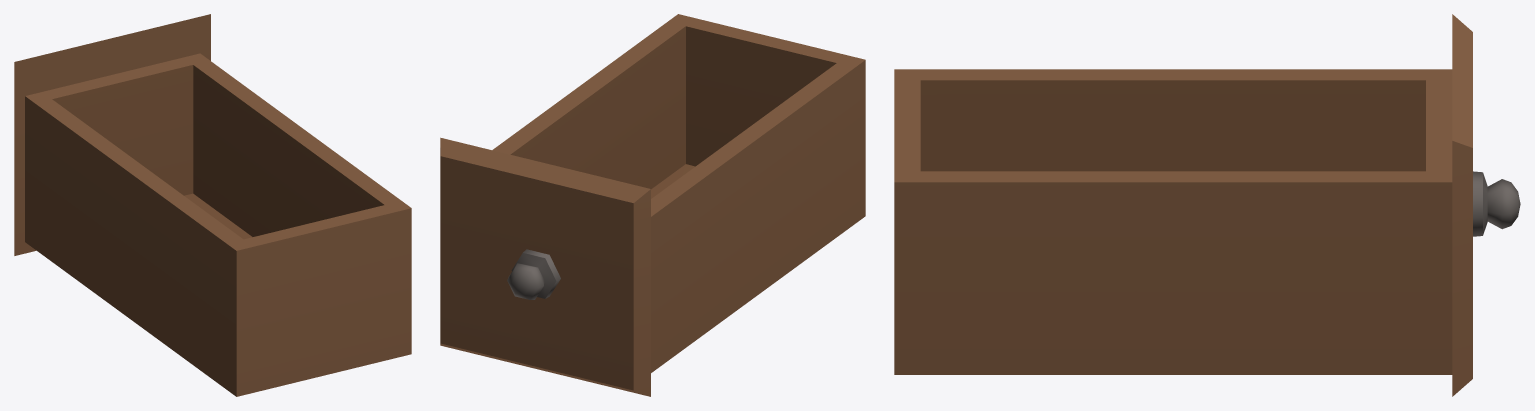
The model's file is ShelfUnit3_Drawer.fbx.
The picture shows the model from 3 angles, left to right: view 1: azimuth 30°, elevation 25°; view 2: azimuth 150°, elevation 25°; view 3: azimuth 270°, elevation 25°; orthographic projection. The views are drawn at different scales.
Visible parts, largest first — view 1: ShelfUnit3_Drawer; view 2: ShelfUnit3_Drawer; view 3: ShelfUnit3_Drawer.
Boxes of the visible parts, left/top/right/bottom form: ShelfUnit3_Drawer: left=14, top=14, right=411, bottom=396; ShelfUnit3_Drawer: left=440, top=14, right=865, bottom=396; ShelfUnit3_Drawer: left=894, top=14, right=1520, bottom=396.
Size of the model in its own units: 22.28 by 21 by 46.51.
